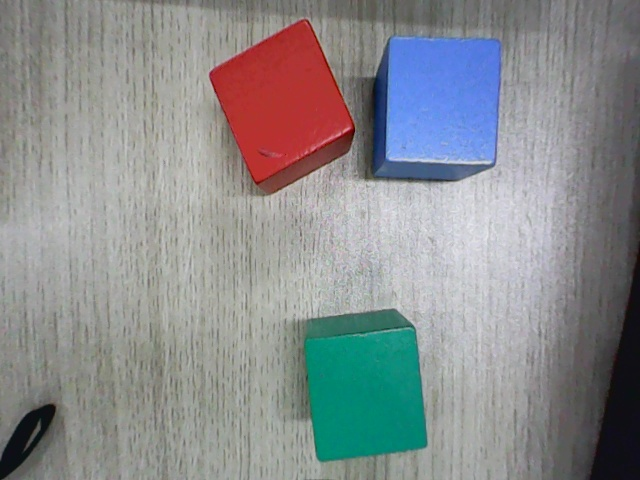upside of big cube: (208, 16, 355, 185), (303, 327, 428, 461), (386, 39, 501, 164)
